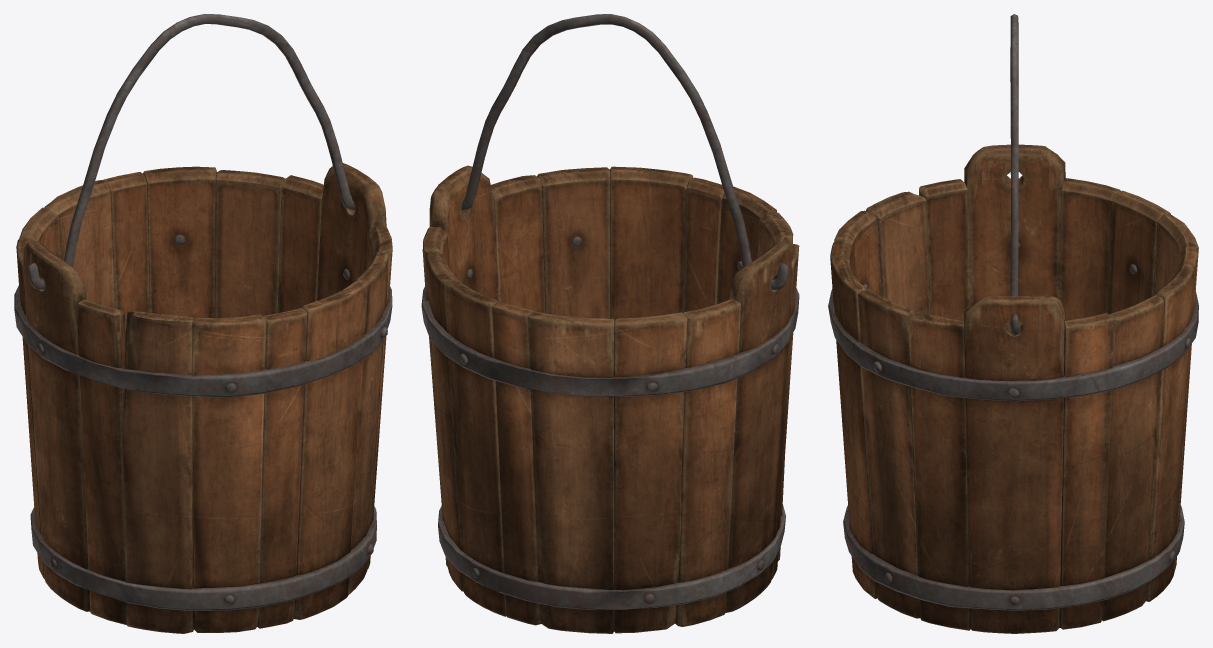
The model's file is wooden_bucket_01.glb.
The picture shows the model from 3 angles, left to right: view 1: azimuth 30°, elevation 25°; view 2: azimuth 150°, elevation 25°; view 3: azimuth 270°, elevation 25°; orthographic projection.
Parts seen in each view (by area): view 1: wooden_bucket_01, wooden_bucket_01_handle; view 2: wooden_bucket_01, wooden_bucket_01_handle; view 3: wooden_bucket_01, wooden_bucket_01_handle.
Part boxes in pixels (x1=…): wooden_bucket_01: x1=14, y1=163, x2=392, y2=633; wooden_bucket_01_handle: x1=28, y1=14, x2=354, y2=289; wooden_bucket_01: x1=421, y1=165, x2=799, y2=633; wooden_bucket_01_handle: x1=438, y1=14, x2=788, y2=290; wooden_bucket_01: x1=828, y1=144, x2=1198, y2=633; wooden_bucket_01_handle: x1=1010, y1=14, x2=1018, y2=335.
Bounding box in the file's own units: 0.367 × 0.5499 × 0.3419.
1 material, 1 textured.
